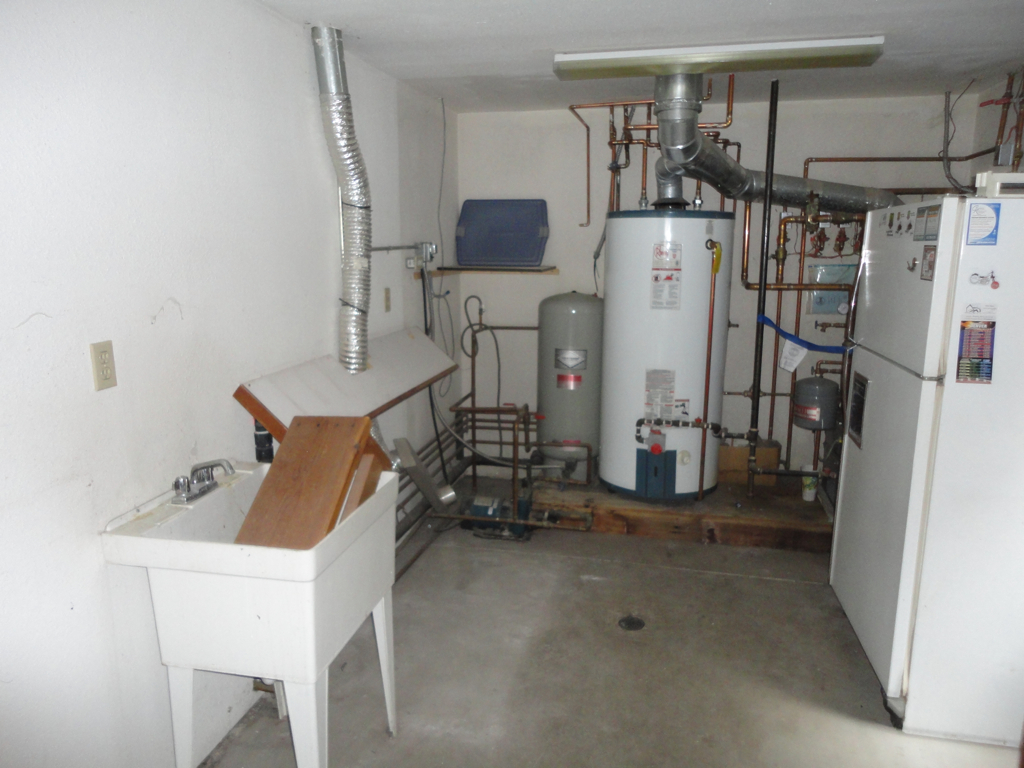handle: (834, 343, 856, 420), (843, 265, 868, 331)
refrigerator door: (845, 368, 934, 652), (852, 210, 957, 359)
